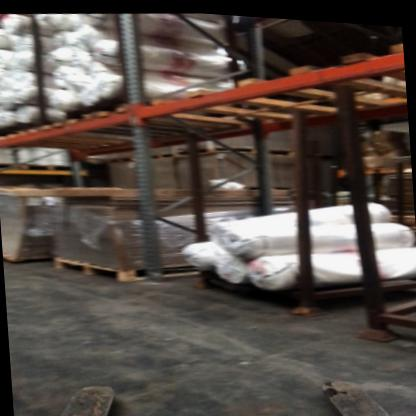vertical_damage: (144, 262, 168, 284)
